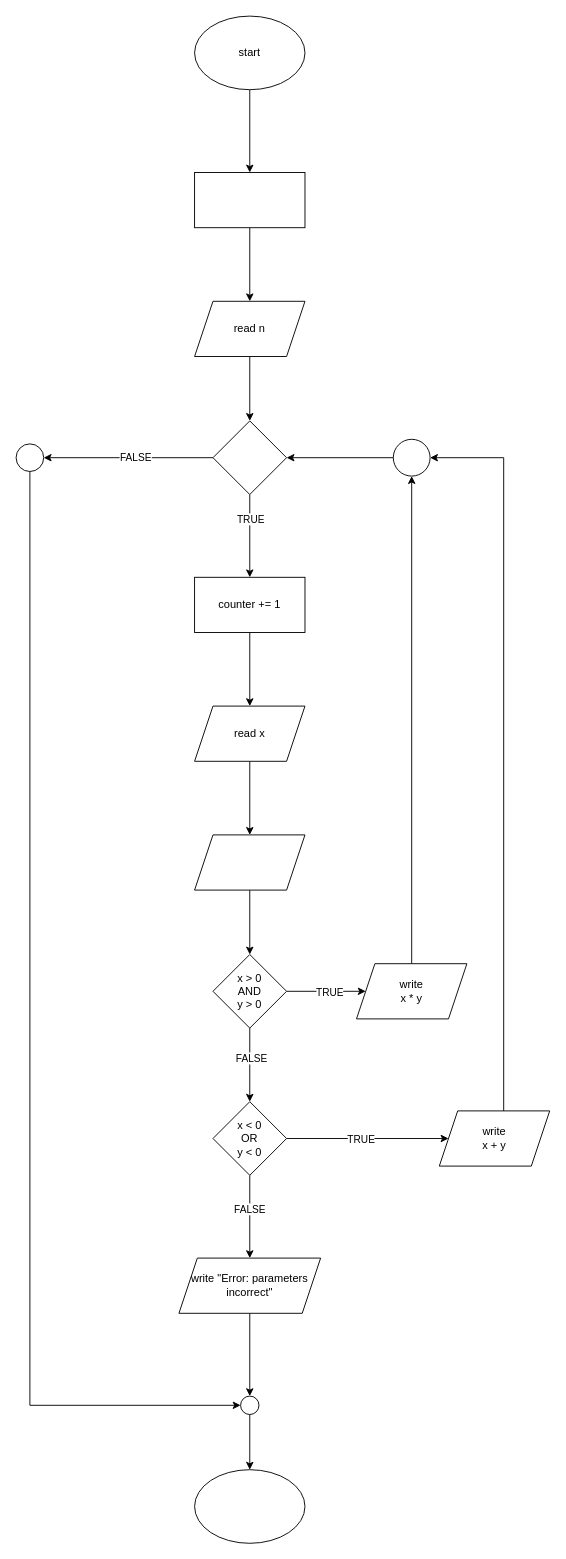
The diagram is 566 pixels wide and 1559 high, and some of its shapes have lost their labels. The centre of each missing label's shape, as x and y in pixels:
"counter < n" belongs at (x=249, y=457).
"counter = 0" belongs at (x=249, y=200).
"end" belongs at (x=249, y=1506).
"read y" belongs at (x=249, y=862).
